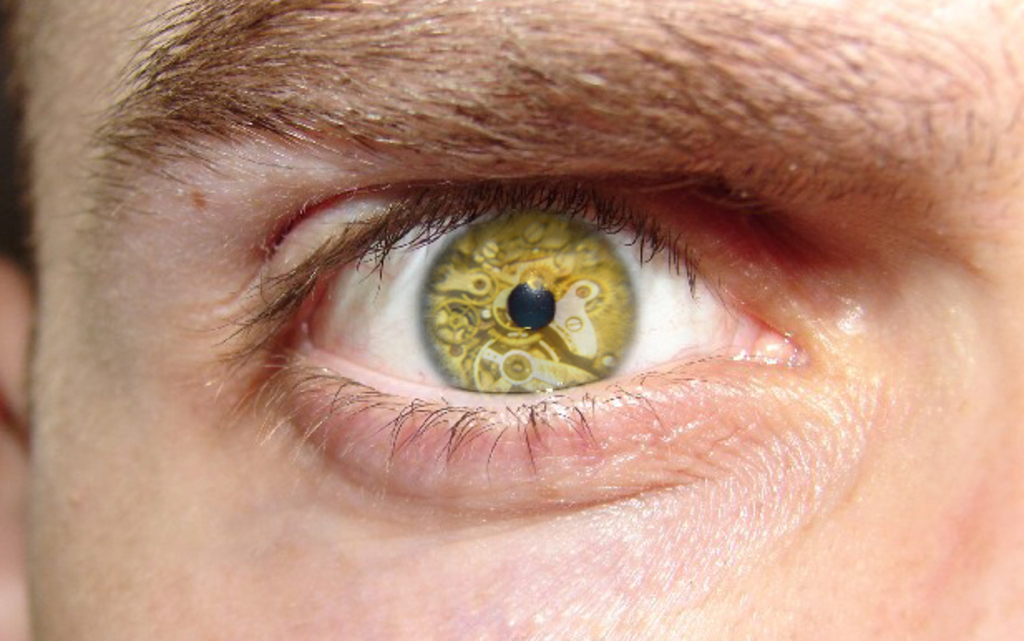Person: (0, 0, 1024, 641)
